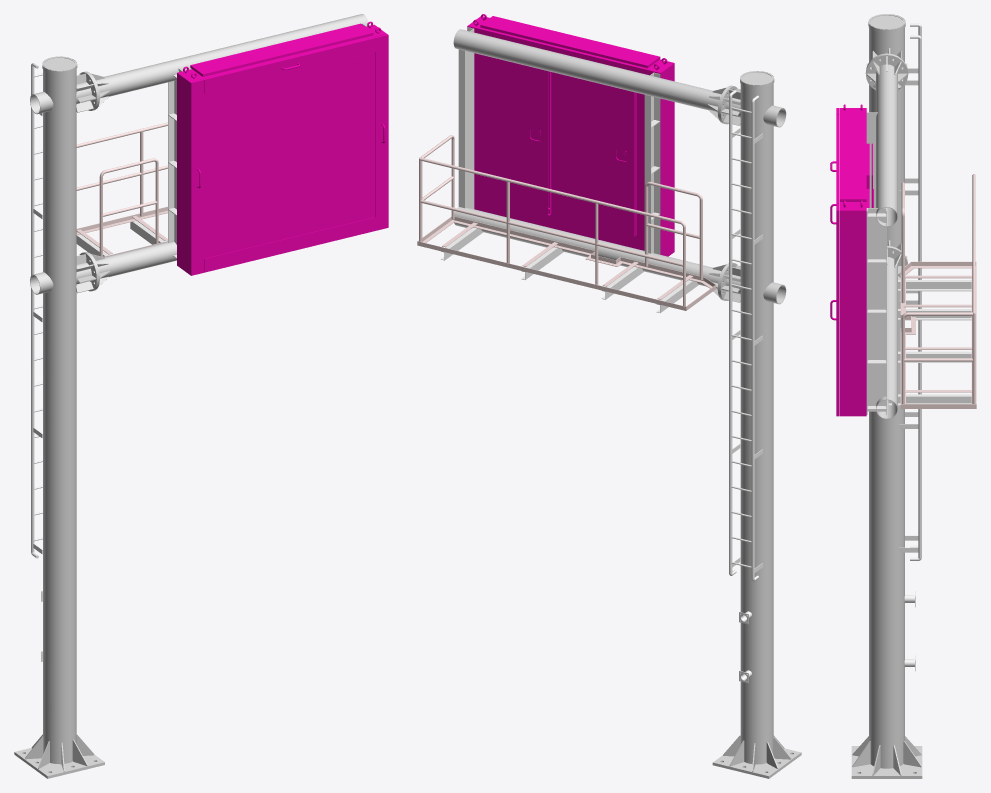
The picture shows the model from 3 angles, left to right: view 1: azimuth 30°, elevation 25°; view 2: azimuth 150°, elevation 25°; view 3: azimuth 270°, elevation 25°; orthographic projection. The views are drawn at different scales.
Parts seen in each view (by area): view 1: group_48.001, group_15.008, group_12, group_48.006, group_48.004, group_60, group_48.003, group_48.005, group_48.002, group_34.020, group_1.002, group_30 (+3 smaller); view 2: group_15.008, group_48.006, group_51.002, group_52.002, group_12, group_1.002, group_24, group_43, group_60, group_30, group_34.020, group_34.004 (+4 smaller); view 3: group_15.008, group_48.006, group_24, group_12, group_60, group_34.004, group_1.002, group_35, group_15, group_43, group_35.002, group_48.003 (+10 smaller).
Part boxes in pixels (left/top/right/bottom): group_48.001: left=204, top=52, right=374, bottom=258; group_15.008: left=43, top=56, right=76, bottom=764; group_12: left=96, top=14, right=368, bottom=98; group_48.006: left=177, top=24, right=386, bottom=274; group_48.004: left=189, top=79, right=204, bottom=275; group_60: left=190, top=23, right=373, bottom=76; group_48.003: left=374, top=34, right=388, bottom=230; group_48.005: left=203, top=37, right=375, bottom=93; group_48.002: left=204, top=217, right=375, bottom=272; group_34.020: left=31, top=63, right=38, bottom=558; group_1.002: left=96, top=242, right=176, bottom=278; group_30: left=168, top=68, right=182, bottom=244; group_15.008: left=740, top=71, right=773, bottom=764; group_48.006: left=467, top=17, right=673, bottom=256; group_51.002: left=488, top=56, right=548, bottom=216; group_52.002: left=574, top=77, right=634, bottom=237; group_12: left=453, top=29, right=721, bottom=111; group_1.002: left=454, top=207, right=721, bottom=288; group_24: left=458, top=27, right=474, bottom=209; group_43: left=419, top=157, right=685, bottom=306; group_60: left=480, top=16, right=660, bottom=68; group_30: left=644, top=72, right=660, bottom=254; group_34.020: left=751, top=95, right=758, bottom=581; group_34.004: left=729, top=90, right=736, bottom=575; group_15.008: left=869, top=14, right=904, bottom=768; group_48.006: left=839, top=108, right=866, bottom=416; group_24: left=866, top=208, right=886, bottom=414; group_12: left=876, top=64, right=907, bottom=226; group_60: left=839, top=110, right=866, bottom=201; group_34.004: left=910, top=35, right=921, bottom=560; group_1.002: left=876, top=257, right=905, bottom=419; group_35: left=901, top=262, right=975, bottom=403; group_15: left=851, top=746, right=922, bottom=778; group_43: left=972, top=174, right=975, bottom=403; group_35.002: left=900, top=261, right=976, bottom=408; group_48.003: left=836, top=204, right=839, bottom=416.
Bounding box in the file's own units: 20.33 × 40.5 × 7.23.
